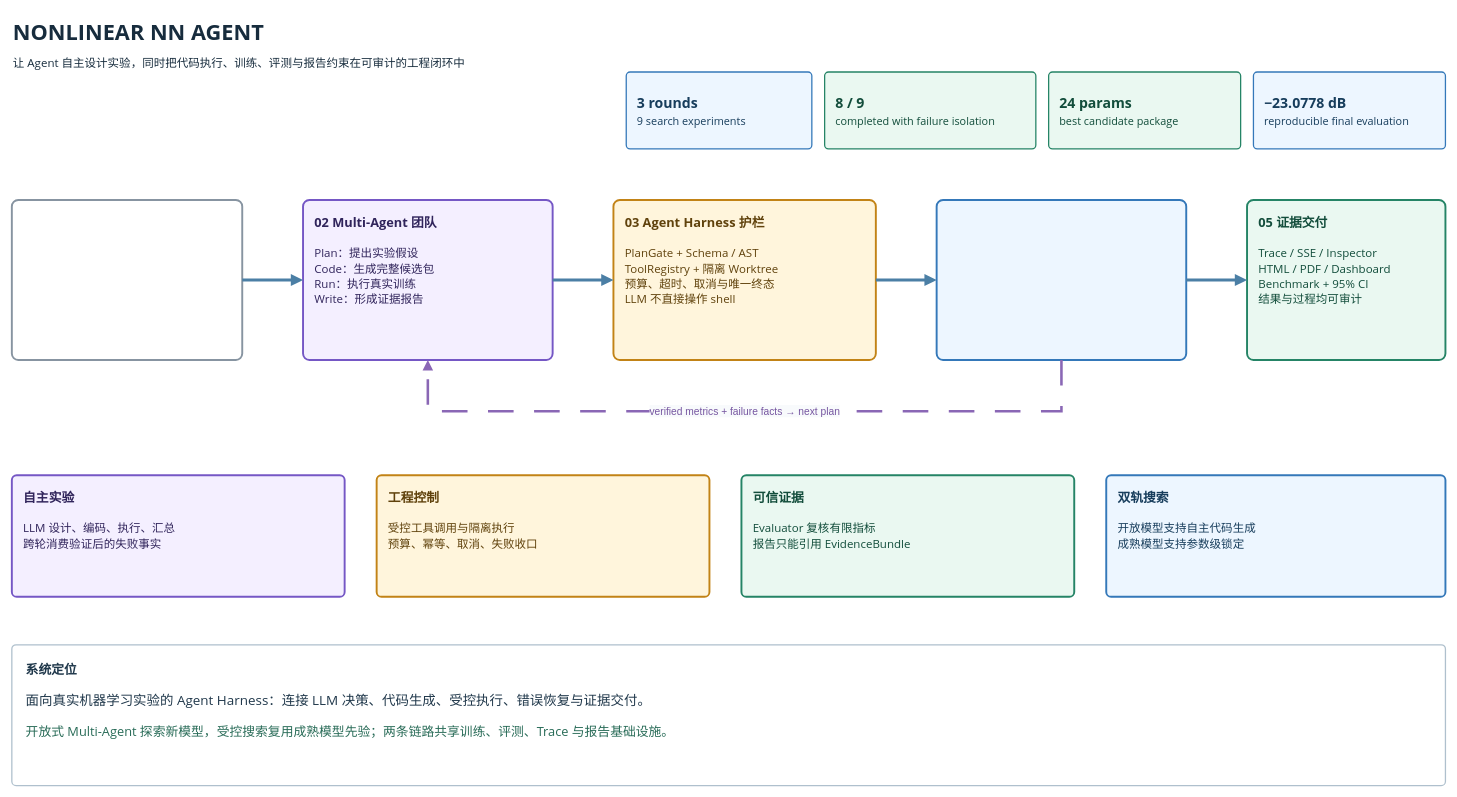
The diagram is 1457 pixels wide and 797 high, and some of its shapes have lost their labels. The centre of each missing label's shape, as x and y in pixels:
01 业务目标 输入实验目标与约束 模型 / 参数 / 时间预算 自动寻找可验证候选: (x=127, y=280)
04 实验闭环 真实 Train + 独立 Evaluator NMSE / PSD / 参数量复核 失败提取为干净事实 下一轮 LLM 重新规划: (x=1061, y=280)
